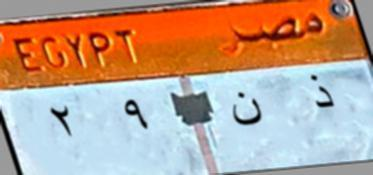2: (46, 99, 83, 144)
9: (116, 94, 155, 133)
noon: (226, 86, 264, 134)
zaal: (302, 72, 339, 114)
